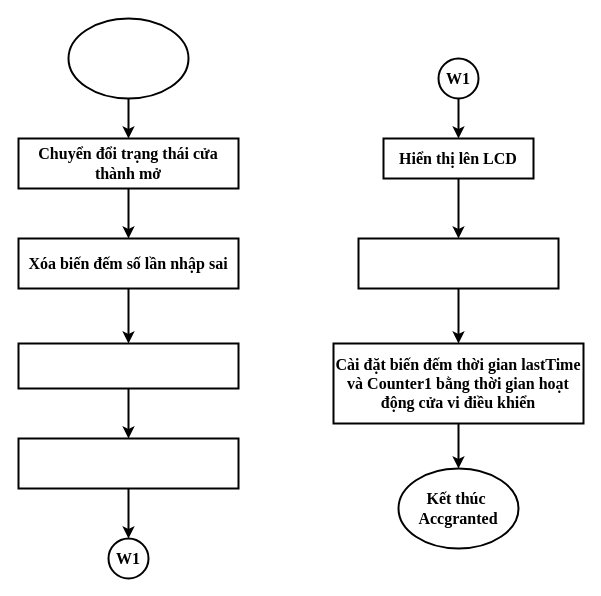
Image size: 601x596. Some labels were removed from this diagram. The shapes that lost their labels are listed below. From the top down, each one's centre as x and y in pixels, then its label:
the point at 128,58: Bắt đầu Accgranted
the point at 458,263: Bật chuông trong 0.5s để báo hiệu cửa được mở
the point at 128,365: Cài đặt thời gian nhắc đóng cửa là 20s
the point at 128,463: Mở chốt cửa và tắt đèn báo hiệu
